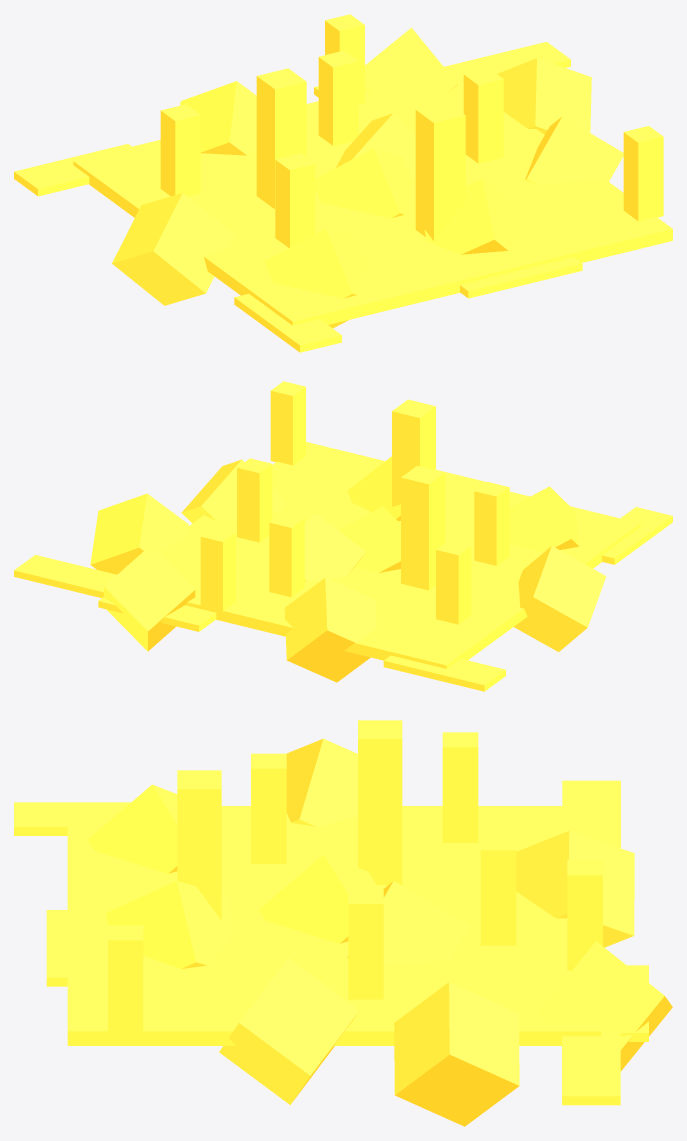
The model's file is spikes.gltf.
3 views of the same model, one above another, from view 1: azimuth 30°, elevation 25°; view 2: azimuth 150°, elevation 25°; view 3: azimuth 270°, elevation 25° (orthographic). The views are drawn at different scales.
Parts seen in each view (by area): view 1: MeshInstance3D, MeshInstance3D30, MeshInstance3D4, MeshInstance3D13, MeshInstance3D8, MeshInstance3D12, MeshInstance3D10, MeshInstance3D11, MeshInstance3D16, MeshInstance3D19, MeshInstance3D18, MeshInstance3D7 (+10 smaller); view 2: MeshInstance3D, MeshInstance3D18, MeshInstance3D30, MeshInstance3D19, MeshInstance3D13, MeshInstance3D8, MeshInstance3D12, MeshInstance3D4, MeshInstance3D14, MeshInstance3D32, MeshInstance3D7, MeshInstance3D29 (+10 smaller); view 3: MeshInstance3D, MeshInstance3D13, MeshInstance3D11, MeshInstance3D19, MeshInstance3D18, MeshInstance3D8, MeshInstance3D16, MeshInstance3D4, MeshInstance3D10, MeshInstance3D30, MeshInstance3D12, MeshInstance3D14 (+10 smaller).
Boxes of the visible parts, left/top/right/bottom form: MeshInstance3D: left=73, top=68, right=672, bottom=325; MeshInstance3D30: left=112, top=193, right=235, bottom=305; MeshInstance3D4: left=415, top=102, right=465, bottom=240; MeshInstance3D13: left=497, top=58, right=591, bottom=134; MeshInstance3D8: left=256, top=68, right=306, bottom=208; MeshInstance3D12: left=264, top=229, right=365, bottom=328; MeshInstance3D10: left=315, top=148, right=413, bottom=218; MeshInstance3D11: left=525, top=116, right=623, bottom=184; MeshInstance3D16: left=424, top=178, right=520, bottom=254; MeshInstance3D19: left=365, top=27, right=457, bottom=95; MeshInstance3D18: left=180, top=81, right=256, bottom=155; MeshInstance3D7: left=623, top=126, right=663, bottom=221; MeshInstance3D: left=160, top=442, right=640, bottom=668; MeshInstance3D18: left=284, top=577, right=376, bottom=682; MeshInstance3D30: left=514, top=546, right=606, bottom=651; MeshInstance3D19: left=104, top=545, right=195, bottom=651; MeshInstance3D13: left=90, top=493, right=188, bottom=574; MeshInstance3D8: left=401, top=465, right=445, bottom=590; MeshInstance3D12: left=509, top=486, right=579, bottom=552; MeshInstance3D4: left=392, top=399, right=435, bottom=506; MeshInstance3D14: left=304, top=513, right=365, bottom=581; MeshInstance3D32: left=200, top=527, right=235, bottom=612; MeshInstance3D7: left=270, top=381, right=305, bottom=465; MeshInstance3D29: left=436, top=540, right=471, bottom=624; MeshInstance3D: left=67, top=806, right=601, bottom=1045; MeshInstance3D13: left=394, top=982, right=519, bottom=1126; MeshInstance3D11: left=219, top=958, right=359, bottom=1104; MeshInstance3D19: left=540, top=941, right=672, bottom=1071; MeshInstance3D18: left=516, top=830, right=634, bottom=947; MeshInstance3D8: left=358, top=720, right=402, bottom=884; MeshInstance3D16: left=105, top=881, right=234, bottom=968; MeshInstance3D4: left=177, top=770, right=221, bottom=920; MeshInstance3D10: left=259, top=854, right=378, bottom=943; MeshInstance3D30: left=286, top=738, right=357, bottom=826; MeshInstance3D12: left=88, top=784, right=177, bottom=873; MeshInstance3D14: left=347, top=881, right=469, bottom=965.
Size of the model in its own units: 4.28 by 1.38 by 3.7.
